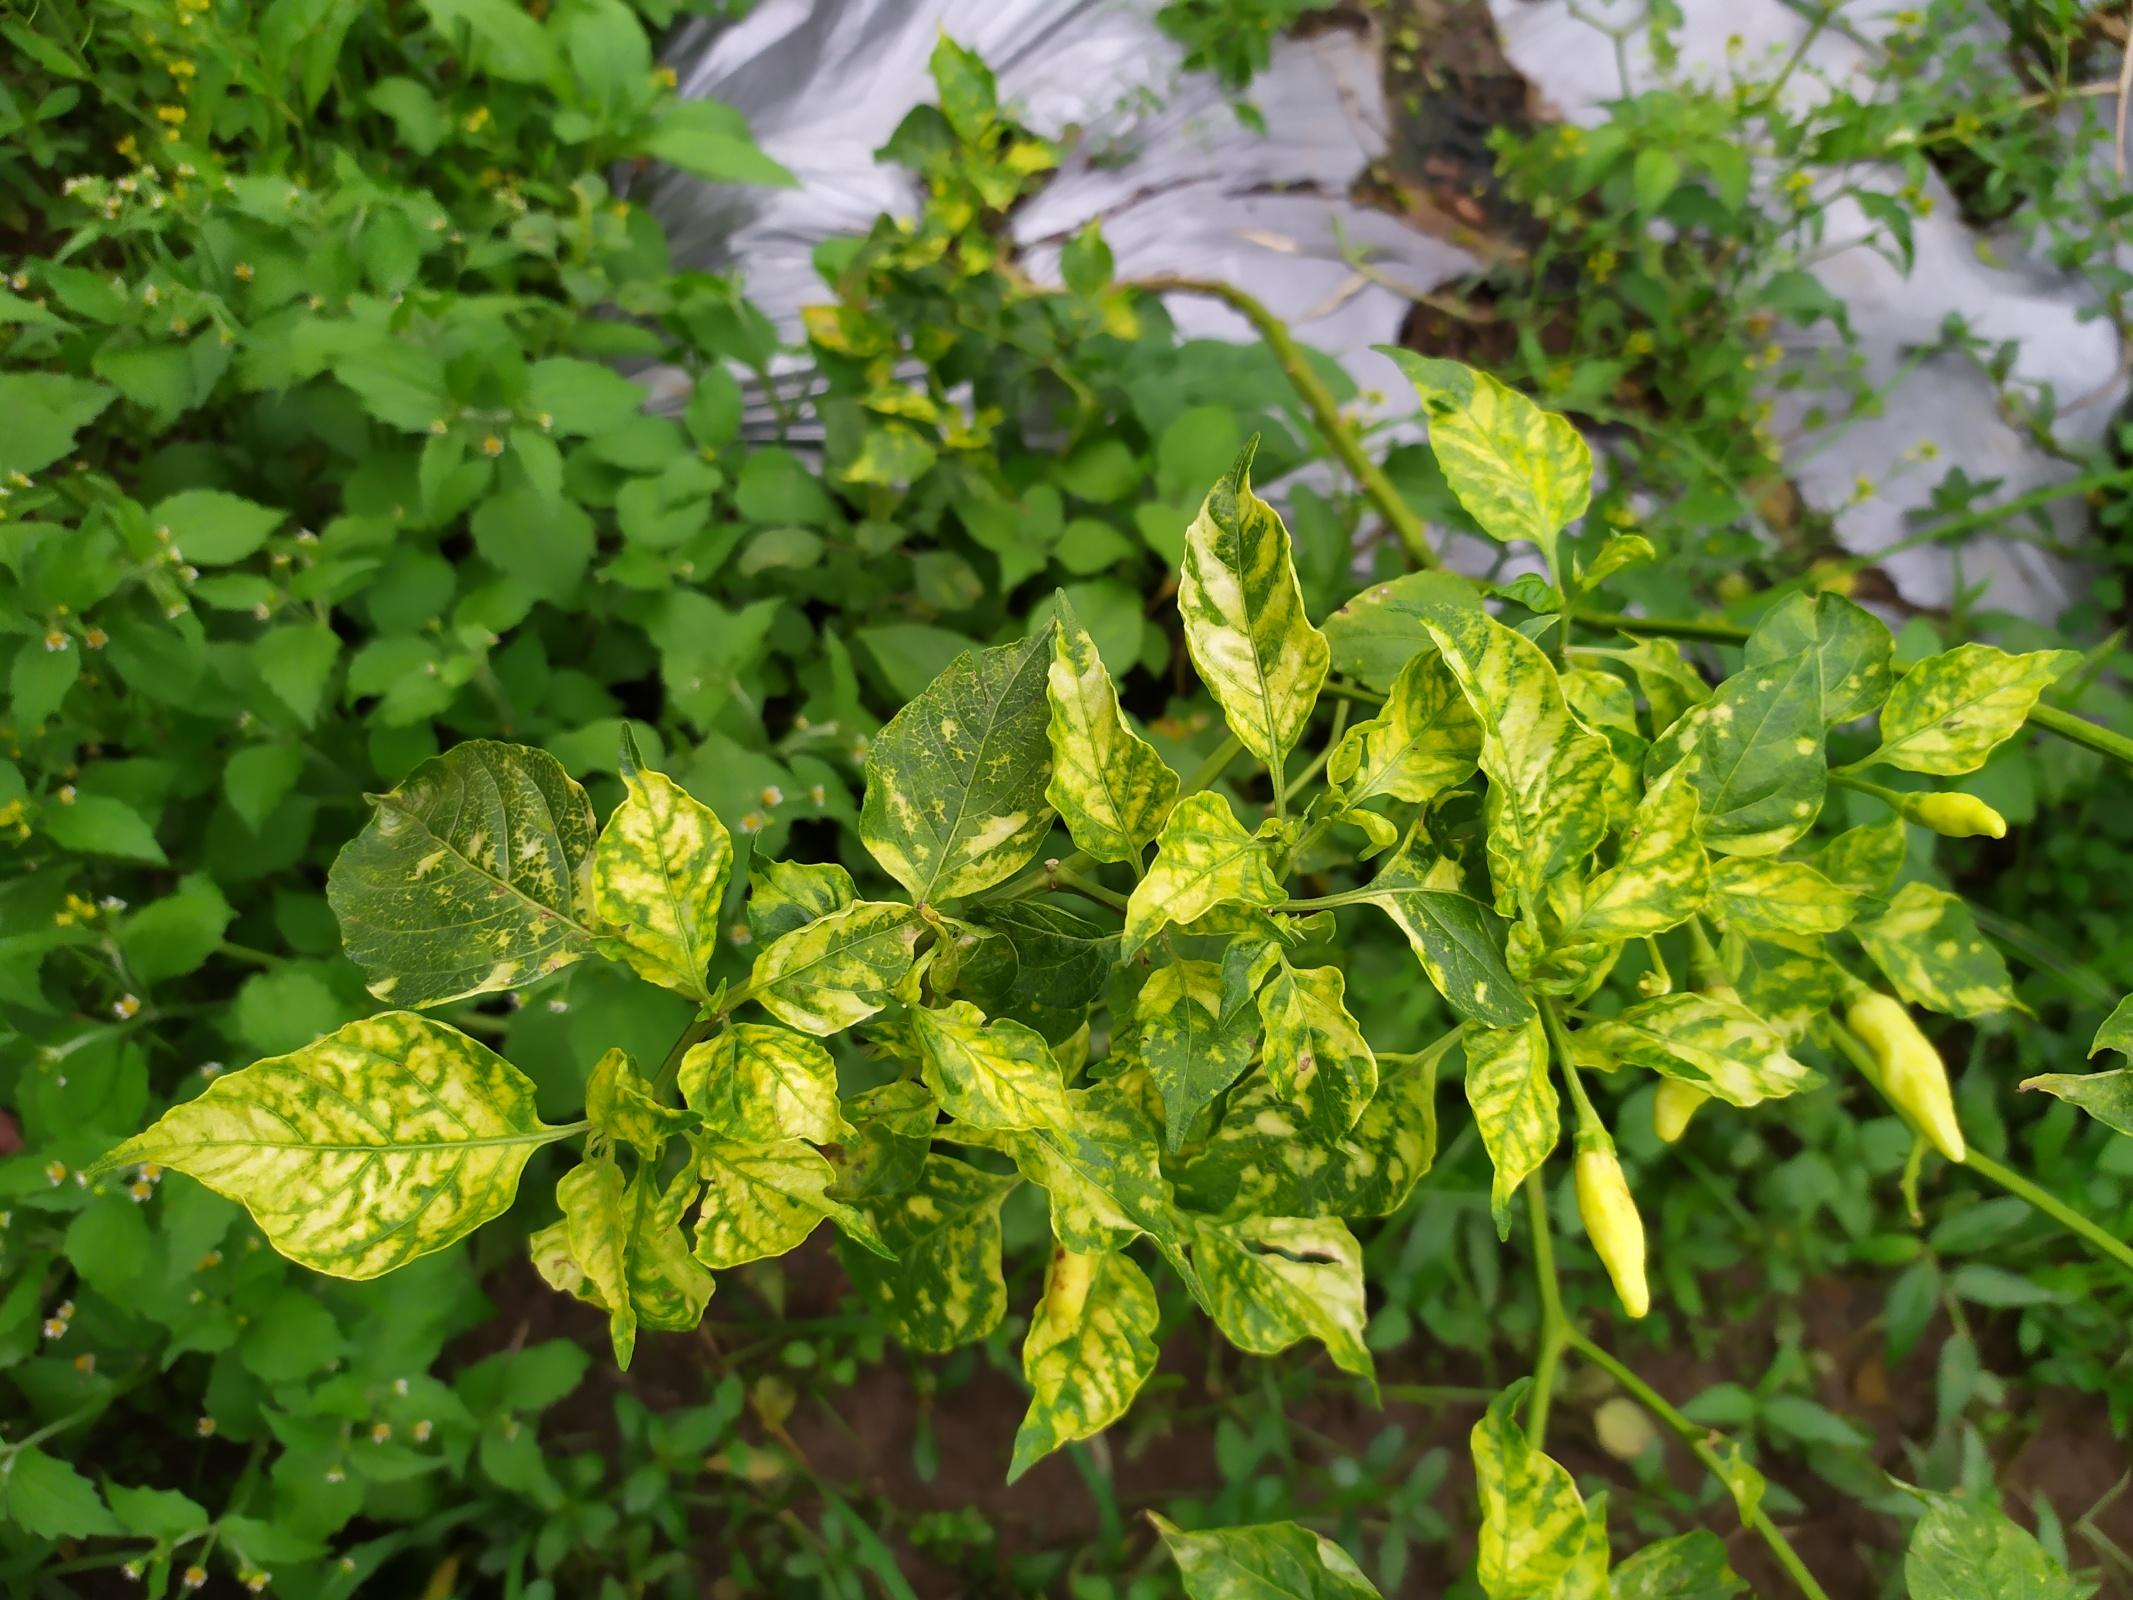cabai_normal: (1846, 993, 1967, 1168), (1572, 1143, 1649, 1321), (1913, 790, 2007, 839)
